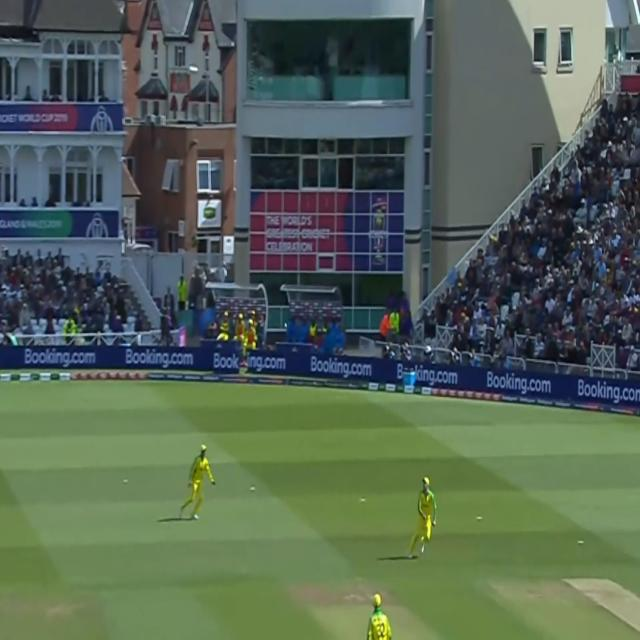ball: (281, 316, 290, 334)
